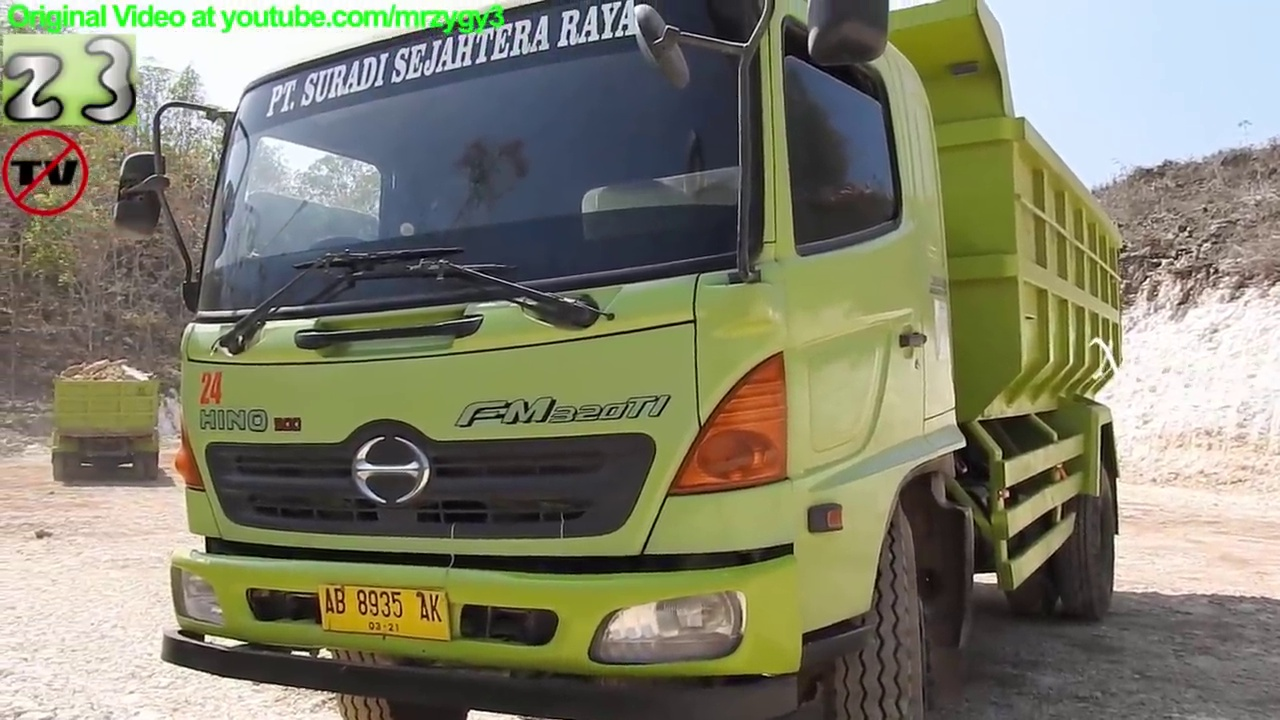truck: (105, 1, 1138, 720), (44, 367, 165, 488)
